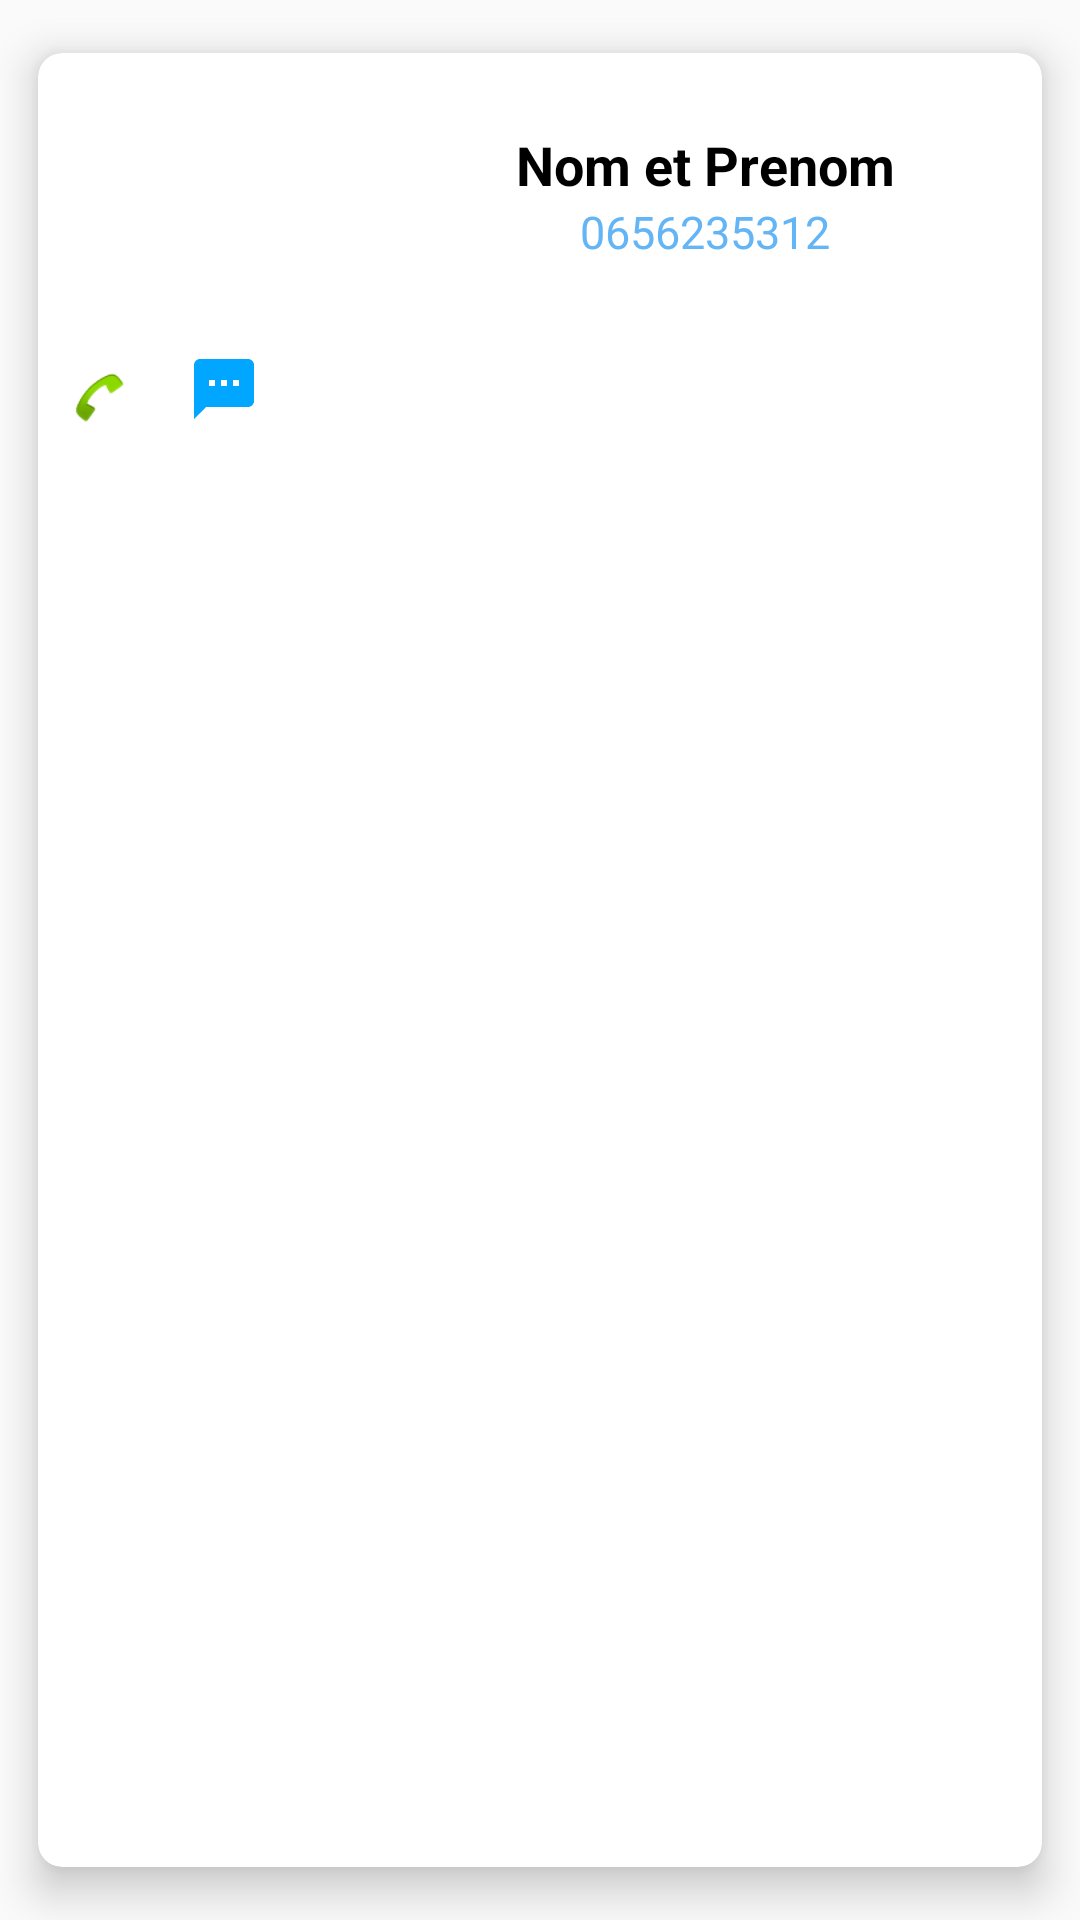

Icon click points for this 1080px×1920px phone screenshot, format [x,y]:
sym action call: [100,397]
